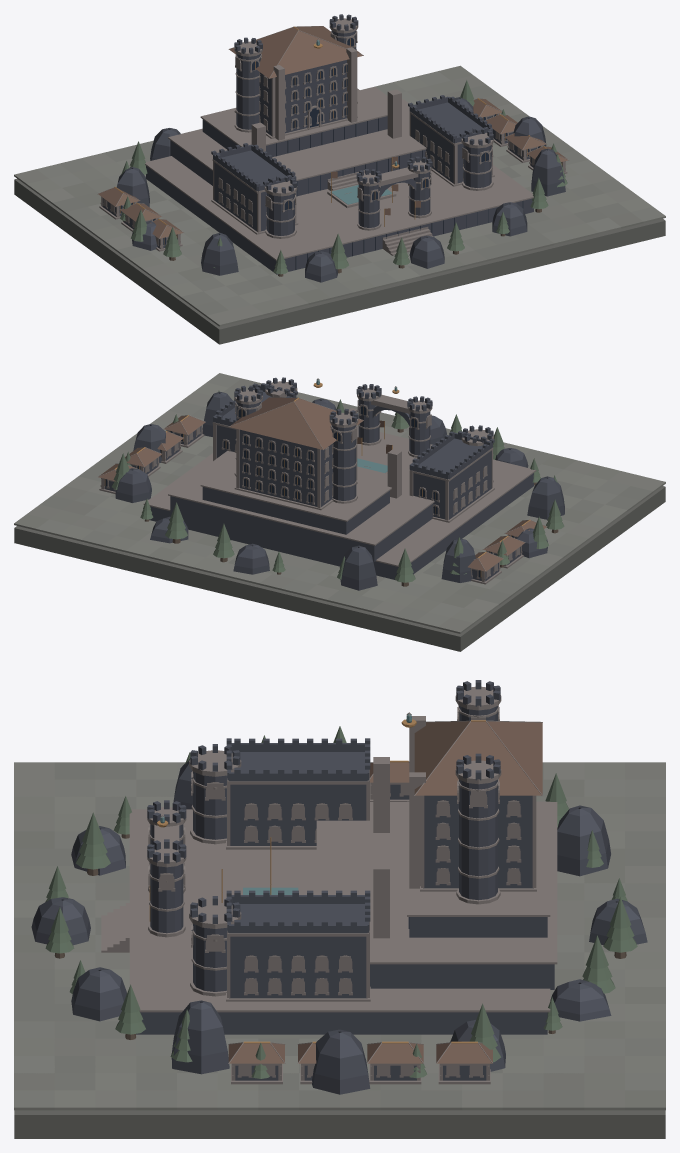
The model's file is basalt.glb.
The picture shows the model from 3 angles, top to bottom: view 1: azimuth 30°, elevation 25°; view 2: azimuth 150°, elevation 25°; view 3: azimuth 270°, elevation 25°; orthographic projection. The views are drawn at different scales.
Visible parts, largest first — view 1: site, black-terraces, defences, high-keep, landscape, high-keep-roof, defences-roof, landscape-roof, court; view 2: site, black-terraces, defences, high-keep, landscape, high-keep-roof, defences-roof, landscape-roof; view 3: site, black-terraces, defences, high-keep, landscape, defences-roof, high-keep-roof, landscape-roof.
Part boxes in pixels (bbox=[...]): site: bbox=[14, 65, 665, 344]; black-terraces: bbox=[145, 87, 533, 274]; defences: bbox=[211, 89, 494, 238]; high-keep: bbox=[234, 18, 358, 140]; landscape: bbox=[99, 80, 567, 276]; high-keep-roof: bbox=[228, 14, 363, 78]; defences-roof: bbox=[211, 95, 493, 193]; landscape-roof: bbox=[98, 98, 568, 238]; court: bbox=[327, 156, 397, 208]; site: bbox=[14, 373, 665, 651]; black-terraces: bbox=[143, 426, 536, 580]; defences: bbox=[212, 381, 494, 522]; high-keep: bbox=[234, 389, 358, 510]; landscape: bbox=[99, 390, 564, 586]; high-keep-roof: bbox=[229, 385, 363, 449]; defences-roof: bbox=[213, 377, 494, 479]; landscape-roof: bbox=[98, 415, 547, 571]; site: bbox=[14, 758, 665, 1138]; black-terraces: bbox=[101, 801, 557, 1034]; defences: bbox=[147, 750, 389, 1001]; high-keep: bbox=[409, 686, 536, 904]; landscape: bbox=[45, 726, 637, 1084]; defences-roof: bbox=[147, 738, 370, 933]; high-keep-roof: bbox=[414, 680, 542, 795]; landscape-roof: bbox=[228, 760, 492, 1063].
Size of the model in its own units: 59.01 by 20.22 by 47.06.
